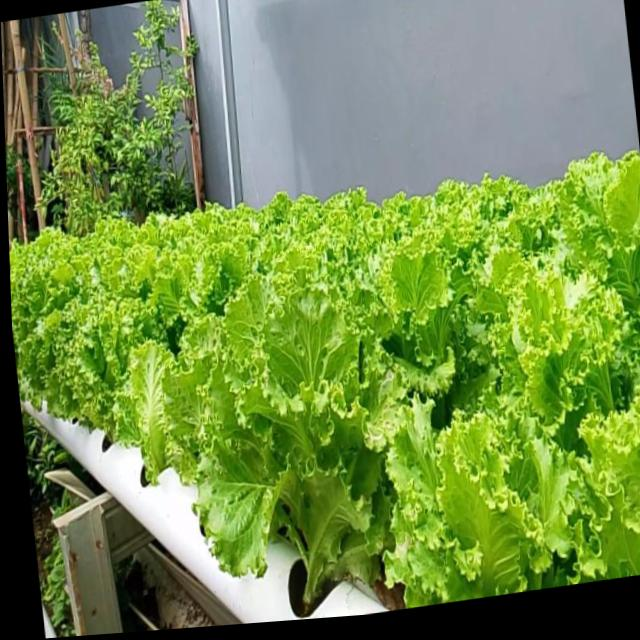Mature: (11, 151, 640, 615), (198, 304, 394, 602), (20, 264, 168, 472)
